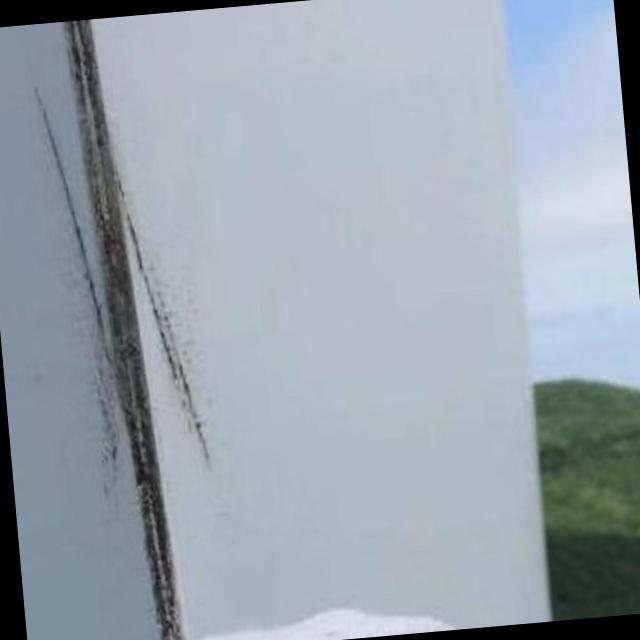crack: (125, 204, 217, 470), (27, 85, 106, 358)
